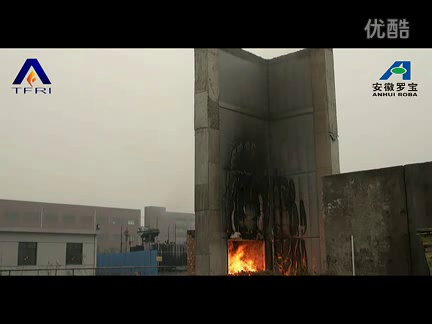fire: (229, 241, 262, 276)
